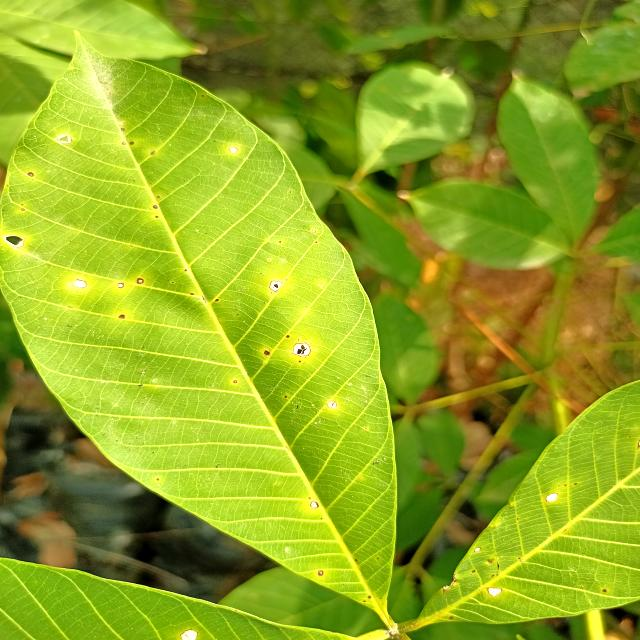Colletotrichum: (292, 342, 312, 357), (545, 492, 560, 503), (57, 134, 72, 144), (310, 501, 319, 509), (230, 147, 238, 154), (137, 278, 144, 284), (264, 350, 270, 356), (318, 570, 324, 576), (474, 547, 481, 552), (118, 283, 124, 288), (118, 314, 125, 318), (153, 205, 158, 209), (120, 128, 124, 132), (130, 142, 134, 145), (122, 142, 126, 145), (233, 380, 237, 383), (286, 335, 290, 338)
